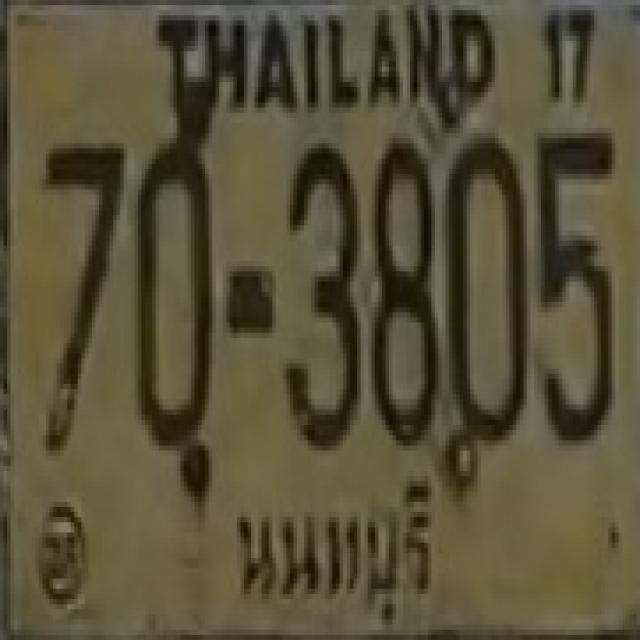0: (442, 133, 523, 446), (132, 133, 210, 451)
3: (281, 138, 359, 446)
5: (534, 128, 612, 440)
7: (42, 138, 120, 440)
8: (368, 136, 435, 443)
NBI: (226, 480, 447, 622)
